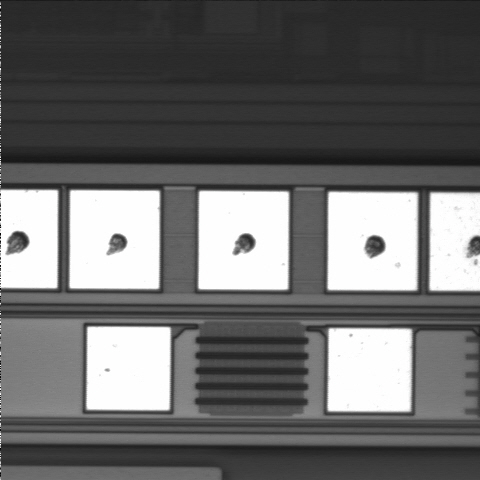pad: (70, 190, 160, 289), (199, 191, 289, 290), (328, 192, 417, 290), (328, 328, 412, 412), (87, 327, 170, 410)
